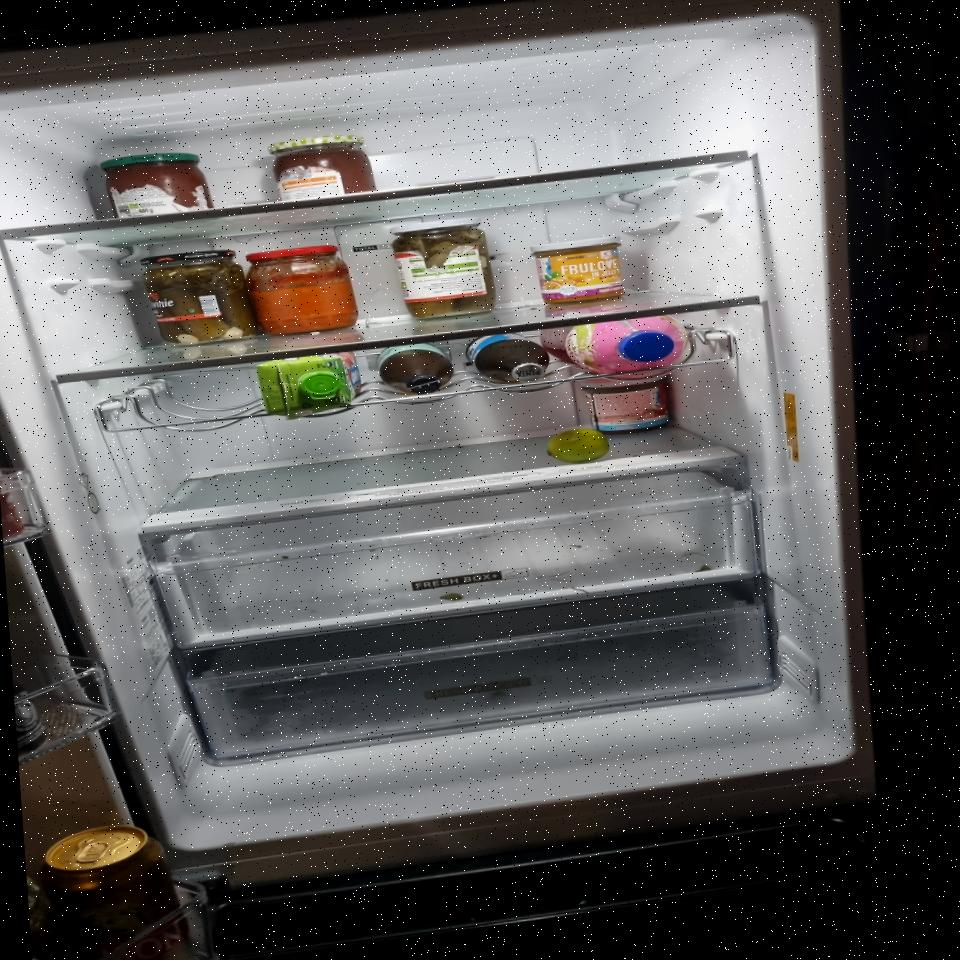lime: (547, 427, 611, 464)
